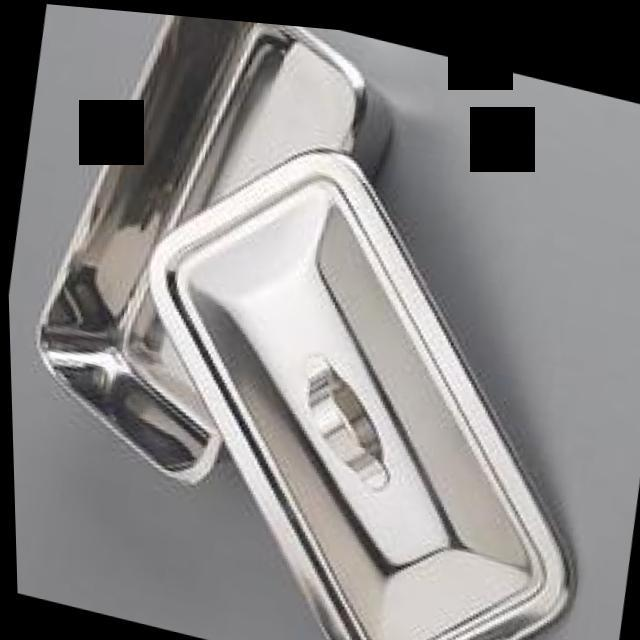Catheter Tray: (0, 0, 423, 524)
